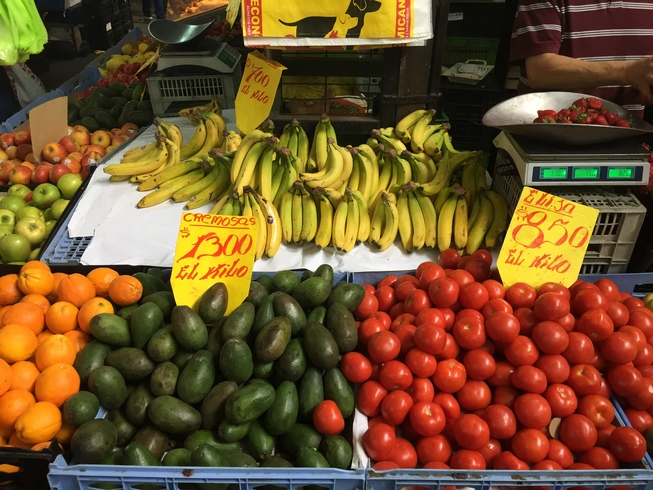precio: (501, 180, 596, 295), (174, 211, 253, 312), (237, 49, 280, 127)
